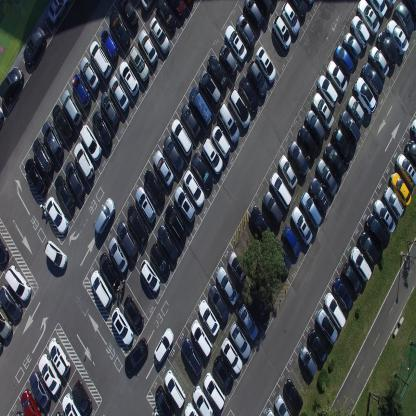car: (188, 86, 213, 130), (5, 263, 31, 302), (38, 352, 61, 396), (353, 75, 377, 116), (24, 157, 48, 197), (31, 136, 55, 176), (180, 336, 204, 376), (198, 68, 222, 108), (92, 196, 116, 236), (0, 66, 25, 104), (90, 268, 113, 309), (41, 118, 64, 159), (228, 319, 251, 360), (89, 39, 112, 80), (45, 195, 69, 234), (111, 306, 134, 346), (51, 102, 74, 142), (217, 102, 240, 142), (190, 151, 213, 191), (164, 203, 187, 243), (23, 26, 46, 66), (224, 24, 247, 64), (249, 205, 273, 243), (124, 337, 148, 375), (376, 30, 400, 68), (366, 212, 390, 250), (190, 318, 212, 359), (108, 9, 130, 50), (164, 368, 186, 409), (170, 118, 193, 157), (200, 136, 223, 175), (73, 141, 95, 181), (127, 203, 149, 243), (216, 266, 238, 306), (148, 16, 170, 56), (290, 206, 312, 246), (228, 88, 250, 128), (48, 337, 70, 377), (29, 370, 51, 410), (79, 123, 102, 161), (116, 220, 139, 258), (156, 224, 179, 262), (220, 336, 243, 374), (197, 299, 220, 337), (269, 171, 292, 209), (311, 92, 334, 130), (315, 307, 338, 345), (127, 43, 149, 82), (182, 169, 204, 208), (203, 371, 225, 410), (316, 158, 338, 197), (300, 191, 322, 230), (389, 170, 412, 207), (65, 159, 86, 199), (208, 283, 229, 323), (54, 173, 76, 211), (144, 168, 166, 206), (152, 150, 174, 188), (162, 136, 184, 174), (206, 52, 228, 90), (358, 230, 380, 268), (0, 284, 22, 322), (387, 20, 410, 56), (349, 246, 372, 282), (61, 88, 82, 127), (70, 72, 92, 109), (288, 140, 310, 177), (324, 292, 346, 329), (374, 198, 396, 235), (92, 108, 112, 148), (174, 185, 195, 223), (255, 45, 276, 83), (247, 60, 268, 98), (238, 74, 259, 112), (237, 304, 259, 340), (297, 123, 319, 159), (382, 185, 404, 221), (138, 28, 158, 67), (108, 74, 129, 111), (100, 252, 121, 289), (135, 186, 156, 223), (124, 293, 145, 330), (249, 289, 270, 326), (324, 142, 345, 179), (305, 108, 326, 145), (357, 0, 379, 35), (326, 59, 348, 94), (332, 276, 354, 311), (108, 236, 128, 274), (332, 126, 352, 164), (396, 152, 416, 190), (118, 60, 139, 96), (263, 190, 284, 226), (362, 60, 383, 96), (43, 240, 68, 270), (368, 44, 390, 78), (100, 90, 120, 127), (180, 103, 200, 140), (154, 327, 174, 364), (236, 14, 256, 51), (309, 176, 329, 213), (72, 378, 92, 415), (150, 242, 171, 277), (79, 55, 99, 91), (227, 250, 247, 286), (280, 2, 300, 38), (394, 1, 414, 37), (350, 14, 370, 50), (340, 108, 360, 144), (278, 154, 298, 190), (307, 328, 327, 364), (342, 260, 362, 296), (212, 354, 233, 388), (192, 384, 214, 416), (272, 15, 292, 50), (317, 74, 338, 107), (211, 124, 231, 158), (140, 258, 160, 292), (283, 378, 303, 412), (218, 43, 238, 76), (157, 0, 176, 34), (154, 383, 174, 415), (298, 345, 318, 377), (117, 0, 139, 29), (272, 238, 290, 273), (100, 28, 118, 62), (282, 224, 300, 258), (335, 44, 354, 75), (243, 0, 263, 29), (46, 0, 70, 23), (20, 389, 41, 415), (347, 94, 364, 126), (344, 31, 362, 60), (61, 392, 82, 415), (0, 303, 12, 341), (166, 0, 187, 19), (404, 137, 416, 169), (368, 0, 387, 20), (274, 394, 290, 416), (0, 236, 11, 266), (290, 0, 307, 18), (254, 0, 273, 15), (184, 400, 199, 416), (139, 0, 156, 11), (384, 0, 397, 9), (410, 117, 416, 136), (0, 103, 4, 128), (263, 408, 275, 415), (14, 408, 24, 416), (54, 409, 64, 415), (0, 336, 3, 355)
